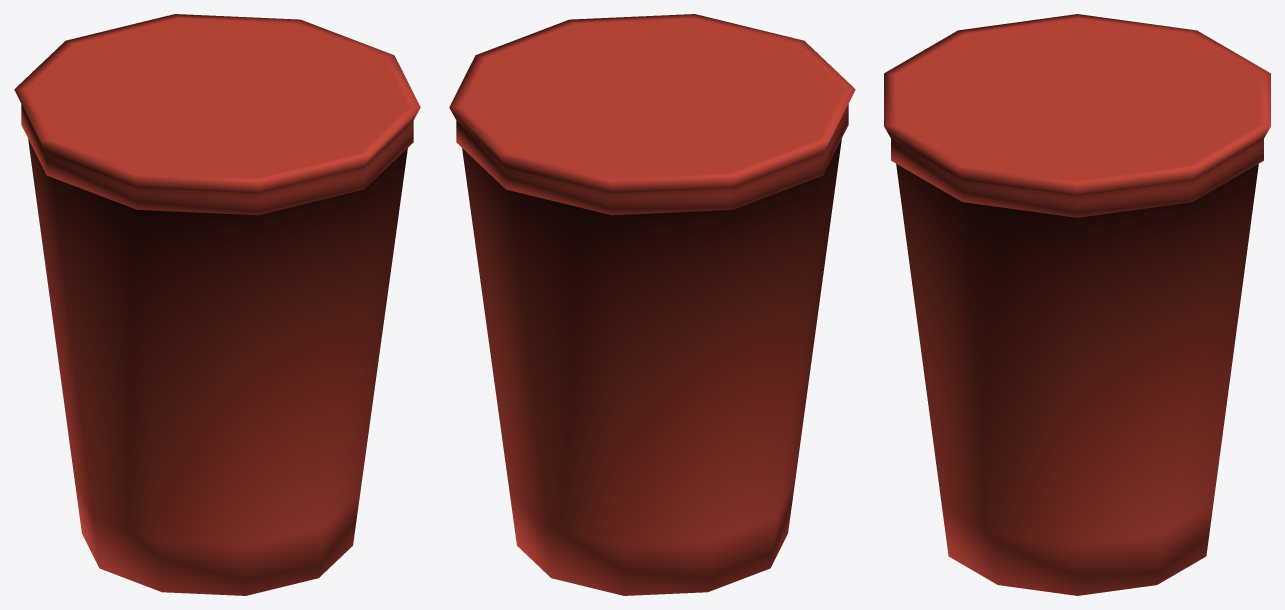
File: red_solo_cup.glb
The picture shows the model from 3 angles, left to right: view 1: azimuth 30°, elevation 25°; view 2: azimuth 150°, elevation 25°; view 3: azimuth 270°, elevation 25°; orthographic projection.
Parts seen in each view (by area): view 1: red_solo_cup; view 2: red_solo_cup; view 3: red_solo_cup.
Part boxes in pixels (x1,y1,x2,y2): red_solo_cup: (14,14,420,595); red_solo_cup: (449,14,855,595); red_solo_cup: (884,14,1270,595).
Size of the model in its own units: 0.084 by 0.1 by 0.0799.
